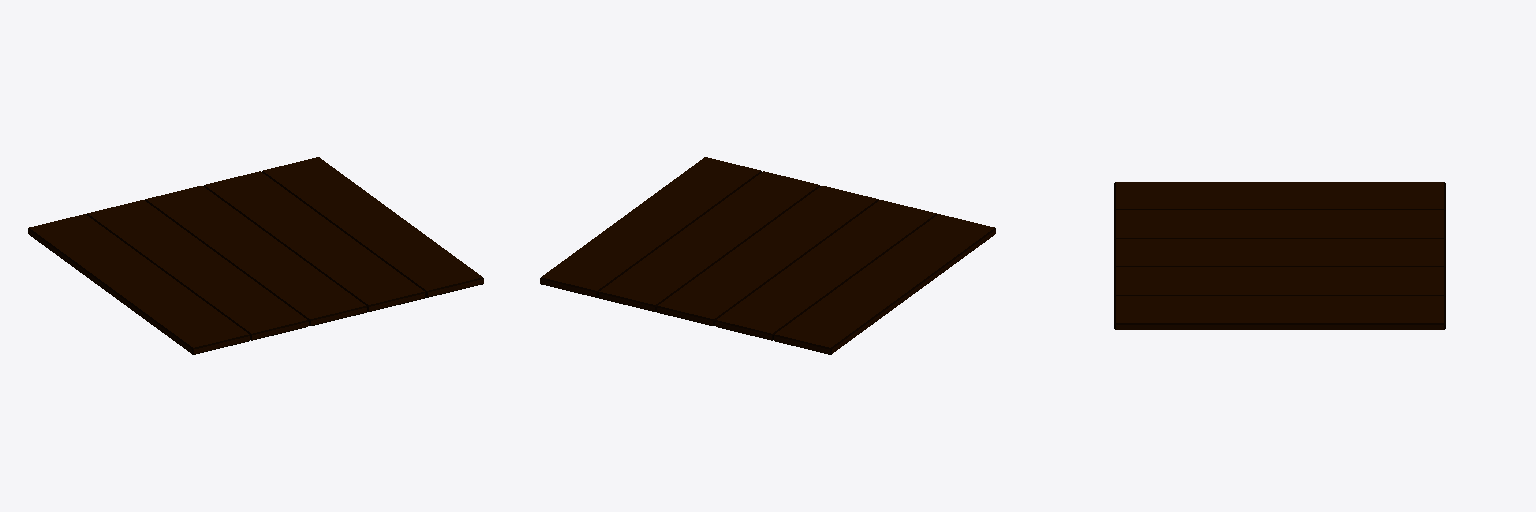
File: House_floor.obj
The picture shows the model from 3 angles: view 1: azimuth 30°, elevation 25°; view 2: azimuth 150°, elevation 25°; view 3: azimuth 270°, elevation 25°; orthographic projection.
Parts seen in each view (by area): view 1: House_floor_Cube; view 2: House_floor_Cube; view 3: House_floor_Cube.
Boxes of the visible parts, <box> form: House_floor_Cube: <box>28,157,483,354</box>; House_floor_Cube: <box>540,157,995,354</box>; House_floor_Cube: <box>1114,182,1445,329</box>.
Bounding box in the file's own units: 2.67 × 0.0622 × 2.63.